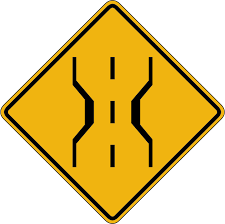narrow-road: (24, 30, 200, 194)
